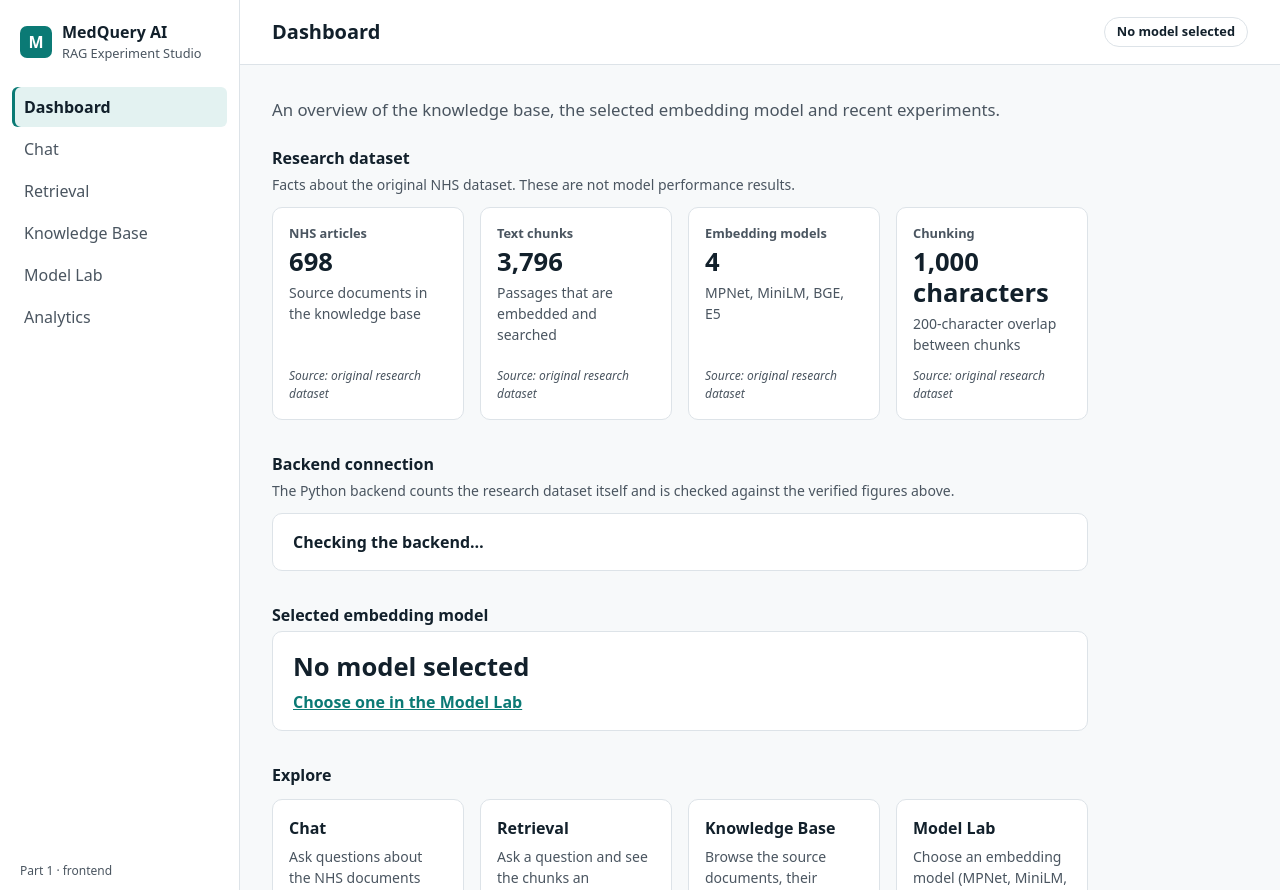
Test: application navigation › switches to Analytics when its link is clicked
Click the link "Analytics".
click(57, 317)  # box [24,306,91,328]
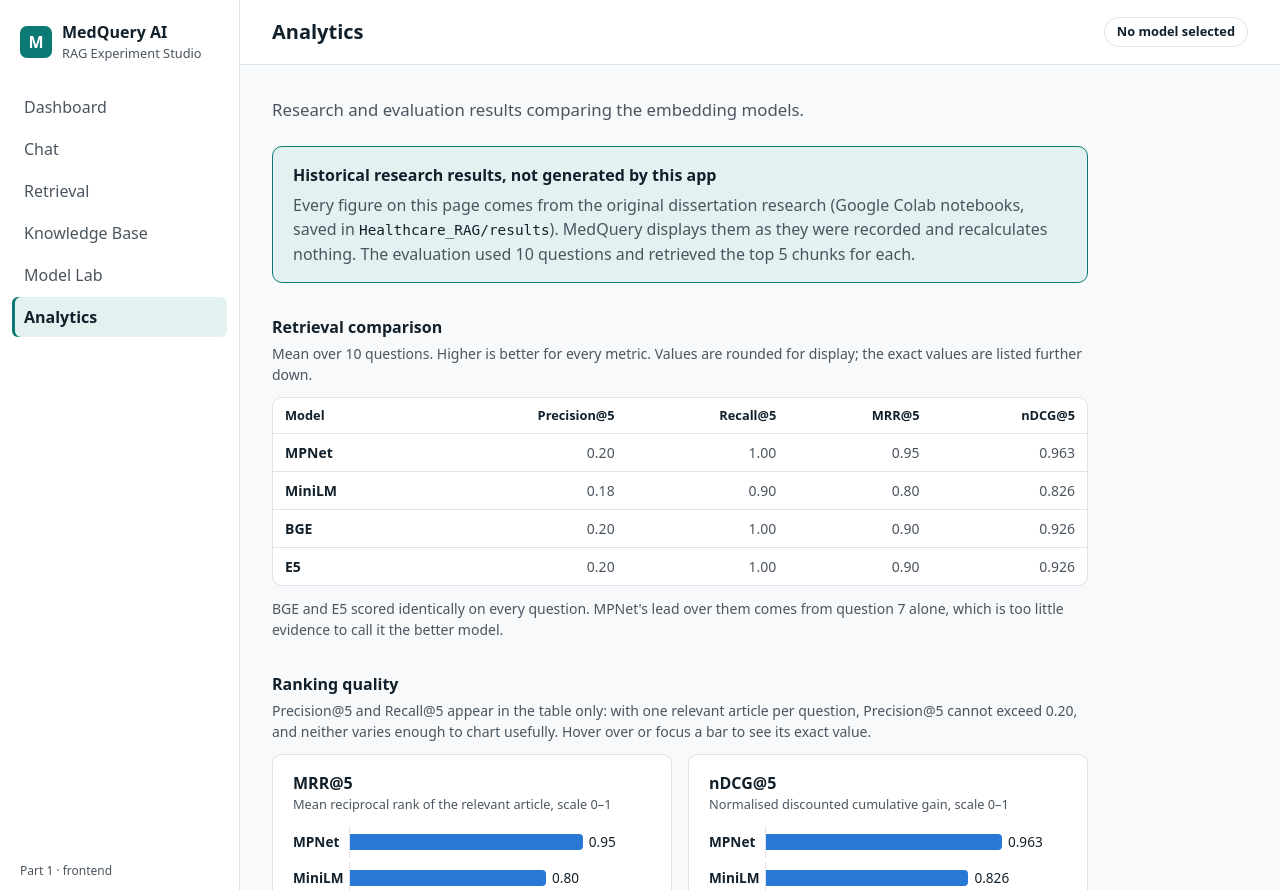
Expected: the heading "Analytics" is shown, [272,17,364,47]
